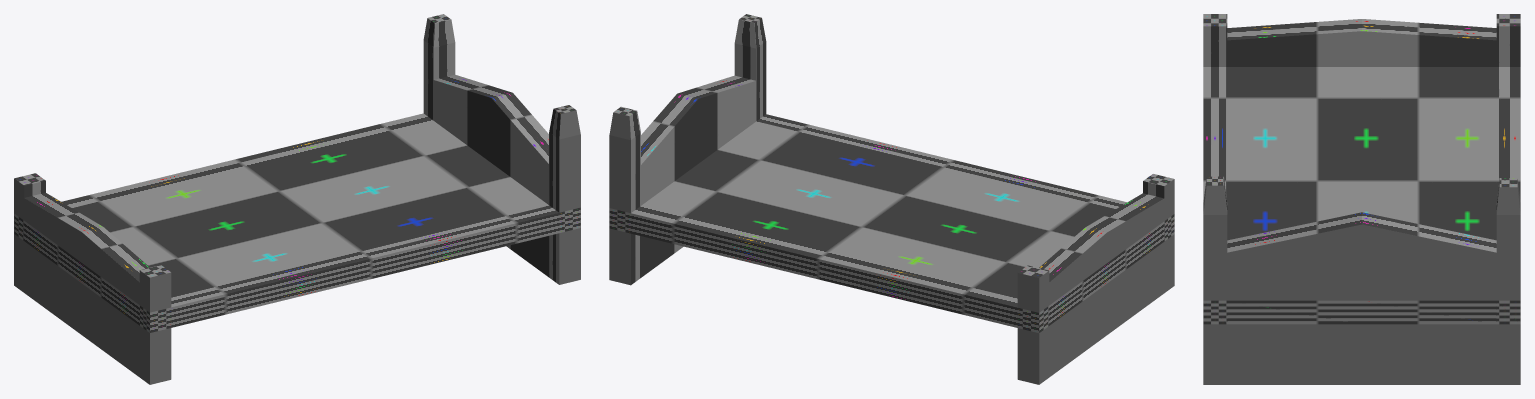
File: BedWood.glb
3 views of the same model, side by side, from view 1: azimuth 30°, elevation 25°; view 2: azimuth 150°, elevation 25°; view 3: azimuth 270°, elevation 25° (orthographic). The views are drawn at different scales.
Visible parts, largest first — view 1: Cube.003; view 2: Cube.003; view 3: Cube.003.
Boxes of the visible parts, box(x1,y1,x2,y2) form: Cube.003: box(14, 14, 580, 384); Cube.003: box(609, 14, 1174, 384); Cube.003: box(1203, 14, 1520, 384).
Bounding box in the file's own units: 2.2 × 0.8257 × 1.2.
1 material, 1 textured.
